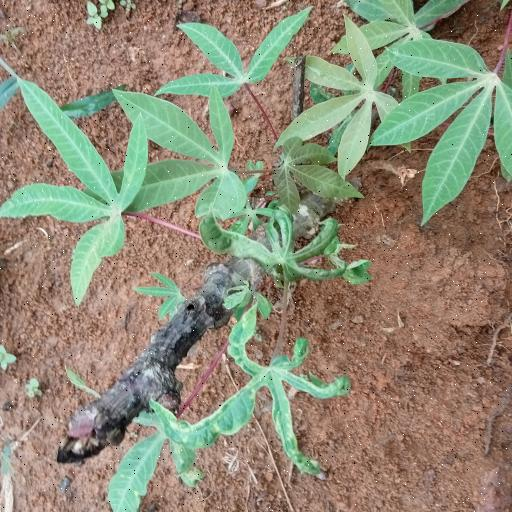Cassava_Mosaic: (22, 69, 153, 292), (220, 294, 345, 492), (96, 81, 246, 231)
